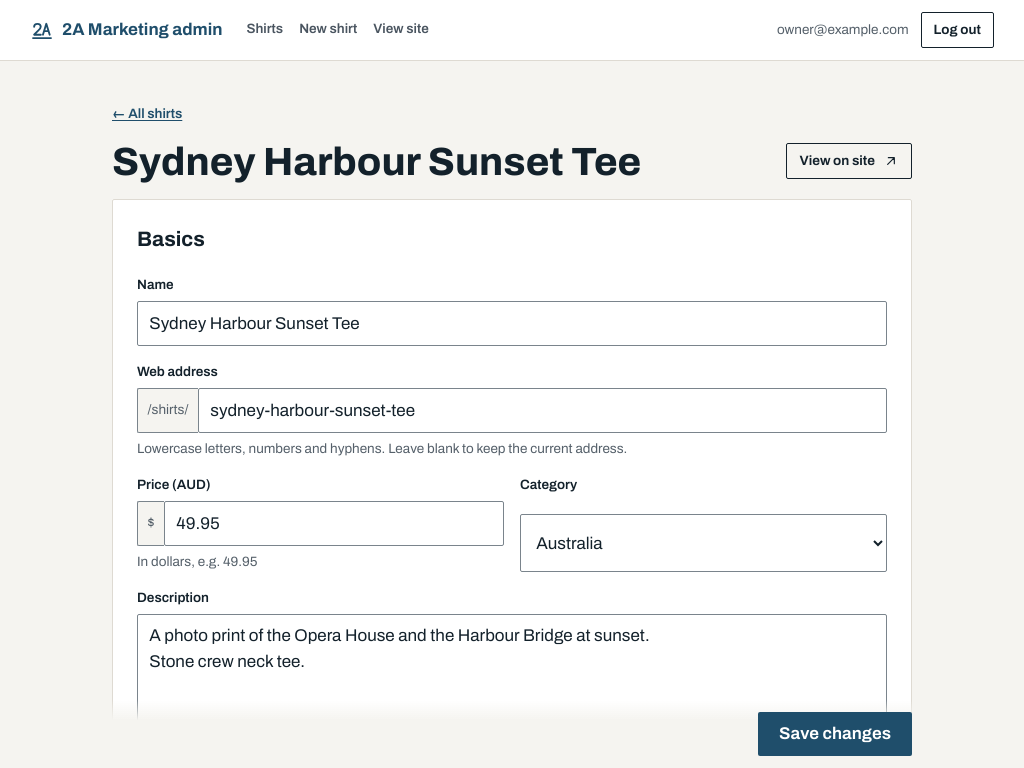
product editor › loads an existing shirt with the price in dollars and saves with PUT
Replace the text in the field labelled "Price (AUD)" with "55". click: (334, 523)
box: [164,501,504,546]
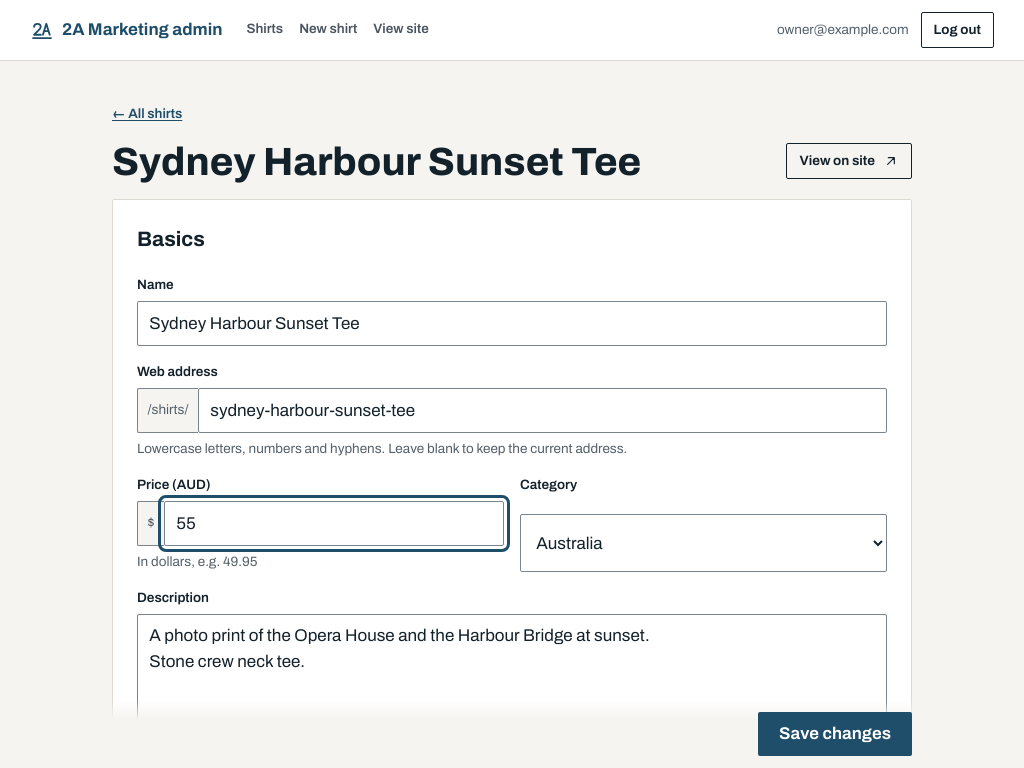
Click the button "Save changes". click: (835, 734)
box: [758,712,912,756]
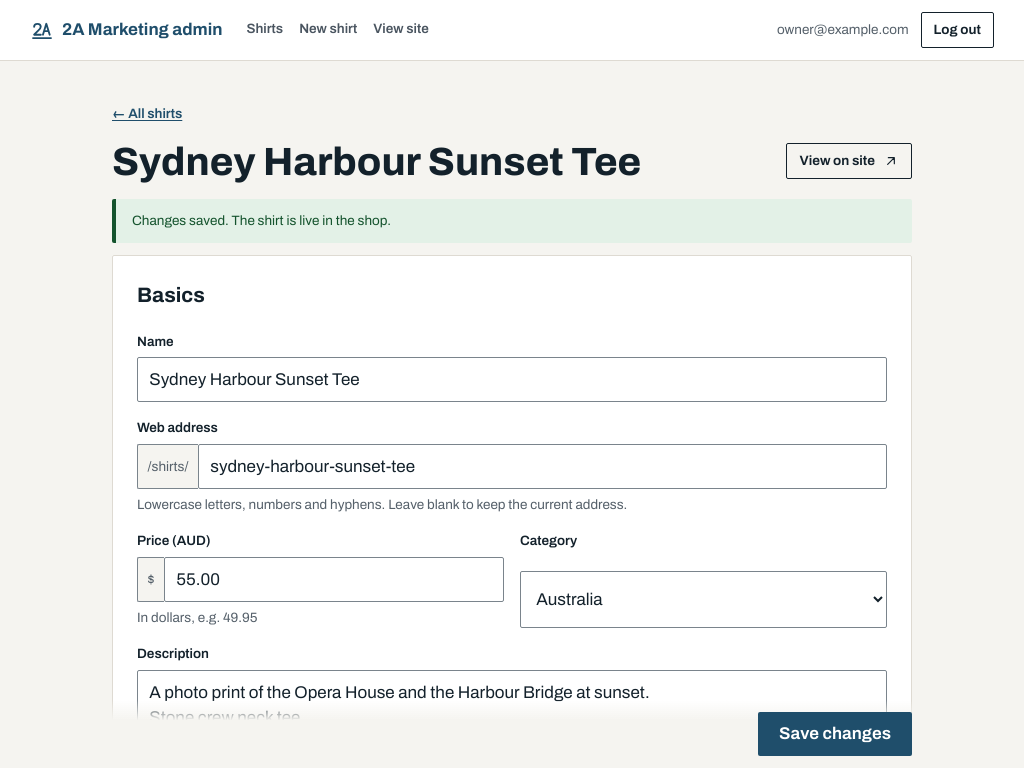
Now the text "Changes saved. The shirt is live in the shop." is shown, box [112,199,912,243]
